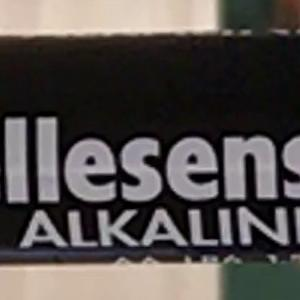keyword: (10, 200, 131, 258)
